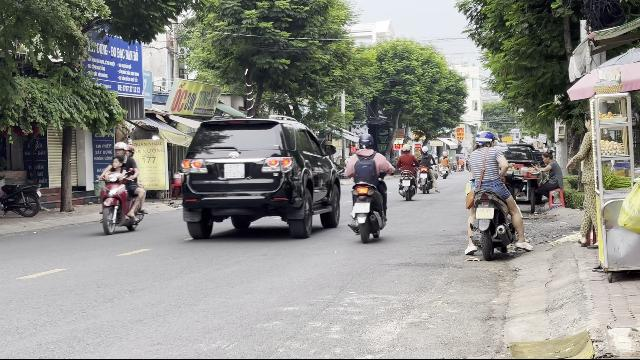helmet: (356, 132, 374, 152), (474, 129, 494, 147), (113, 141, 127, 159), (125, 142, 134, 156)
licenseplate: (476, 208, 494, 218), (354, 204, 370, 212)
motorcyclist: (460, 128, 526, 260), (344, 132, 390, 242), (96, 140, 148, 234)
nohelmet: (111, 156, 125, 172)
